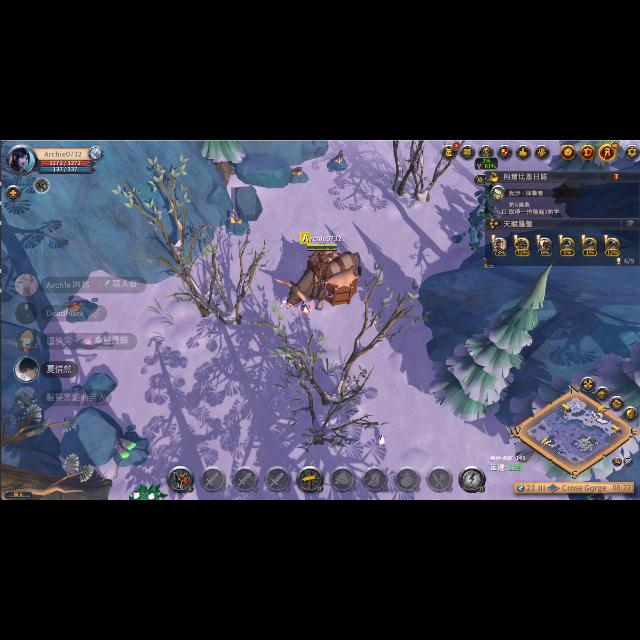mine_ii: (64, 298, 96, 320), (227, 208, 249, 234), (287, 166, 307, 184), (331, 150, 349, 170)
mine_iii: (112, 436, 148, 466)
